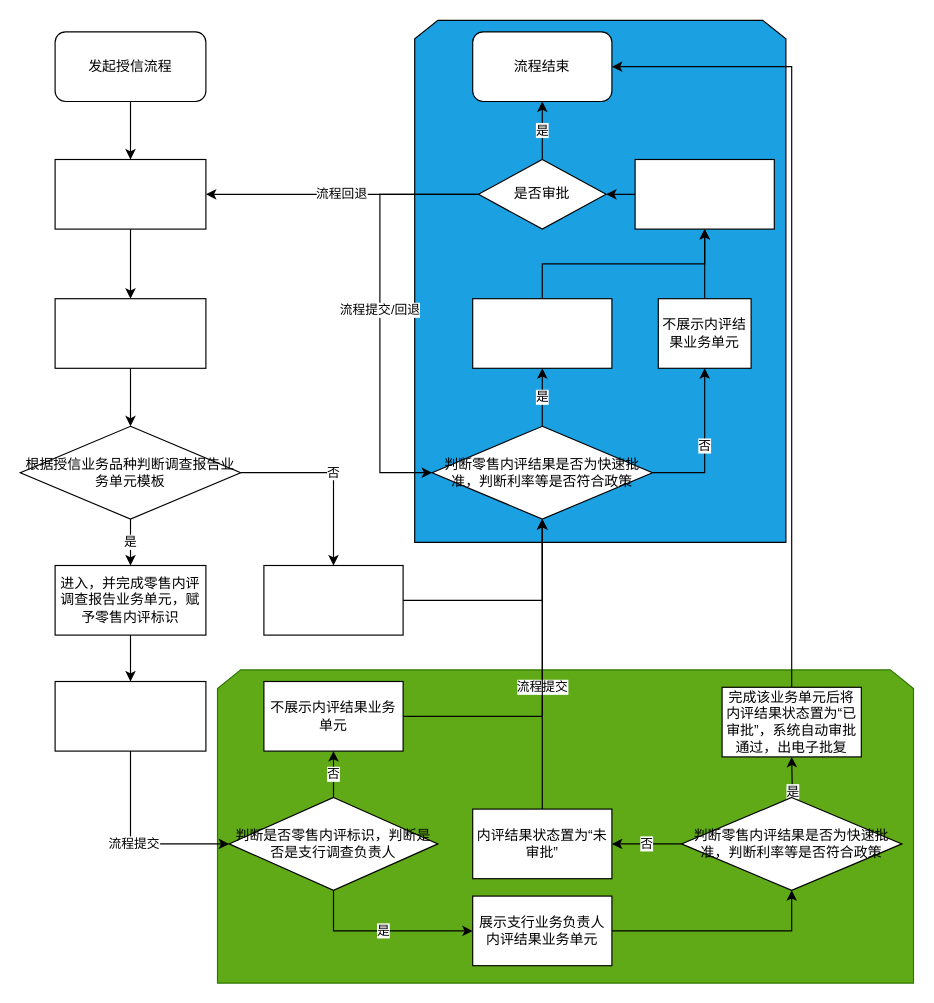
Image size: 934x1003. Some labels were removed from this diagram. Here are the shapes that lost their labels. From the top down, the box of each, then its label:
(54, 158, 206, 229): 完成申请资料、授信建议业务单元
(634, 158, 774, 229): 完成所有业务单元
(54, 298, 206, 368): 点击调查报告业务单元
(472, 298, 612, 368): 展示审批人内评结果业务单元
(263, 564, 403, 635): 进入，并完成非零售内评调查报告业务单元
(54, 680, 206, 751): 进入、完成内评结果业务单元，将新的内评结果状态置为“未审批”
